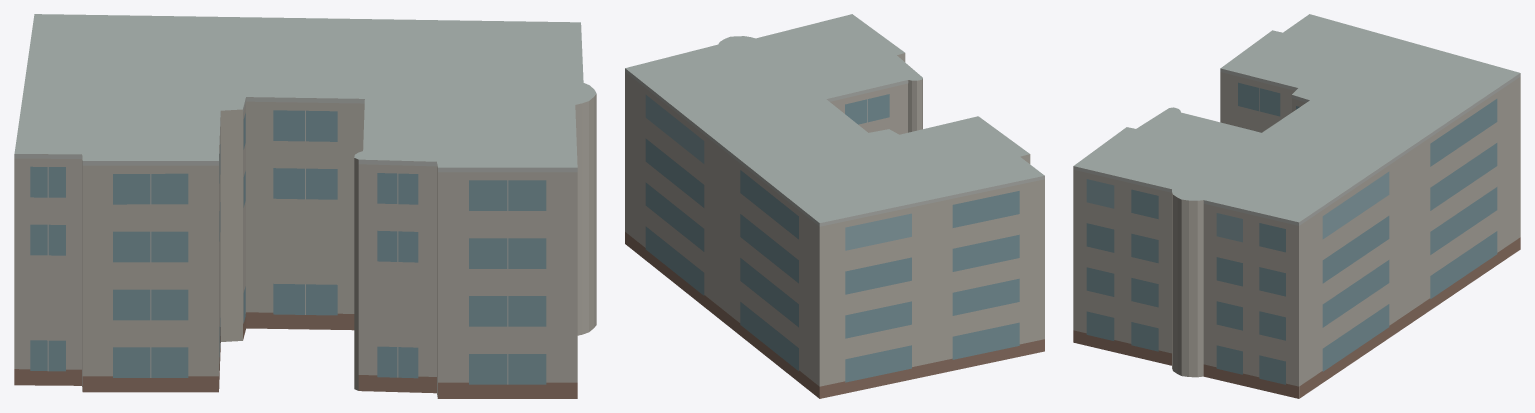
File: survey-upis-32930845.glb
3 views of the same model, side by side, from view 1: azimuth 30°, elevation 25°; view 2: azimuth 150°, elevation 25°; view 3: azimuth 270°, elevation 25° (orthographic). The views are drawn at different scales.
Visible parts, largest first — view 1: survey-upis-32930845.tmp; view 2: survey-upis-32930845.tmp; view 3: survey-upis-32930845.tmp.
Boxes of the visible parts, x1=… form: survey-upis-32930845.tmp: x1=14, y1=14, x2=596, y2=398; survey-upis-32930845.tmp: x1=625, y1=14, x2=1044, y2=398; survey-upis-32930845.tmp: x1=1073, y1=14, x2=1520, y2=398.
Bounding box in the file's own units: 30.64 × 12.1 × 27.79.
